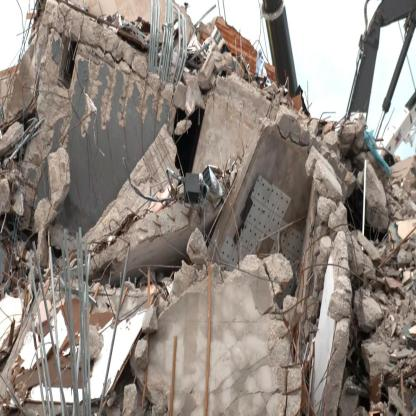rebar: (29, 241, 70, 414), (59, 226, 91, 415)
